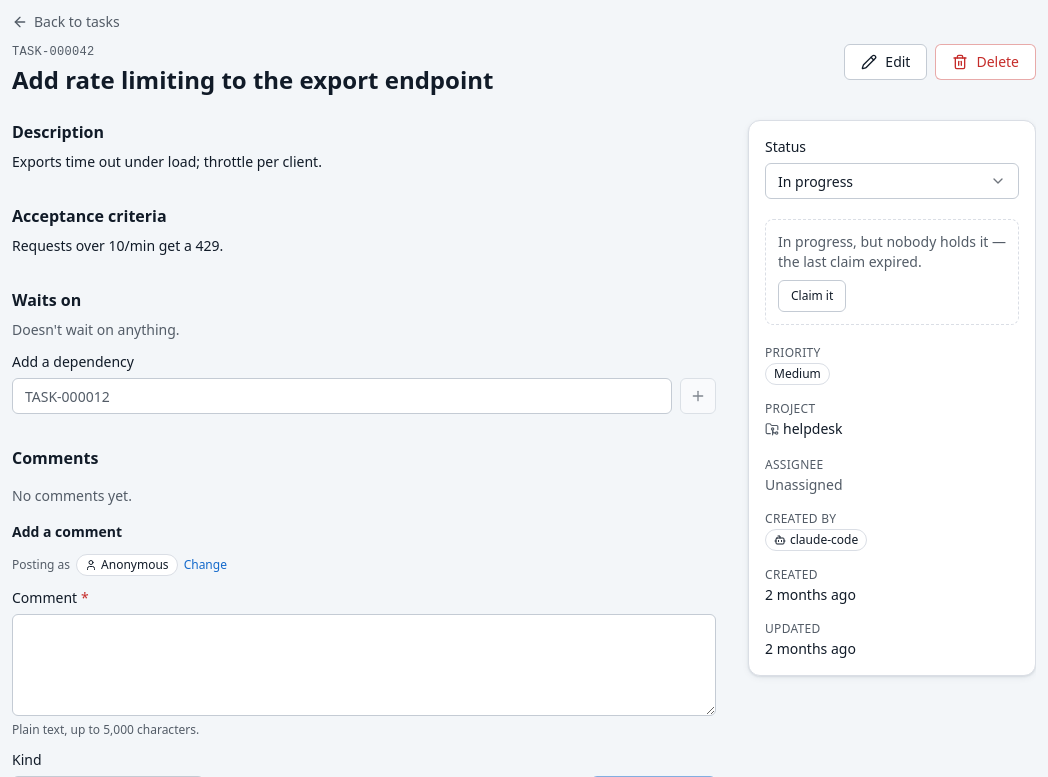
TaskDetailPage — status change › names the claim holder inline when a move is refused, and rolls the value back
This screenshot has width=1048, height=777.
Click the dropdown named "status". click: (892, 181)
box: left=765, top=163, right=1019, bottom=199
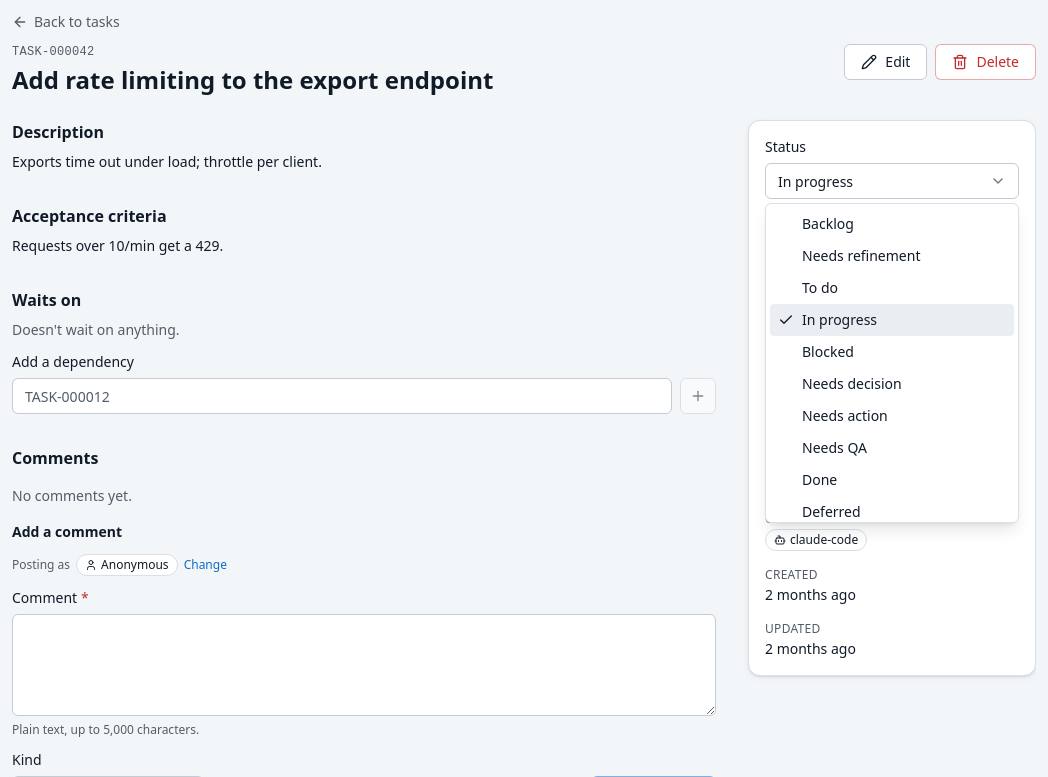
Click the option "Done". click: (820, 480)
box: left=802, top=470, right=837, bottom=489
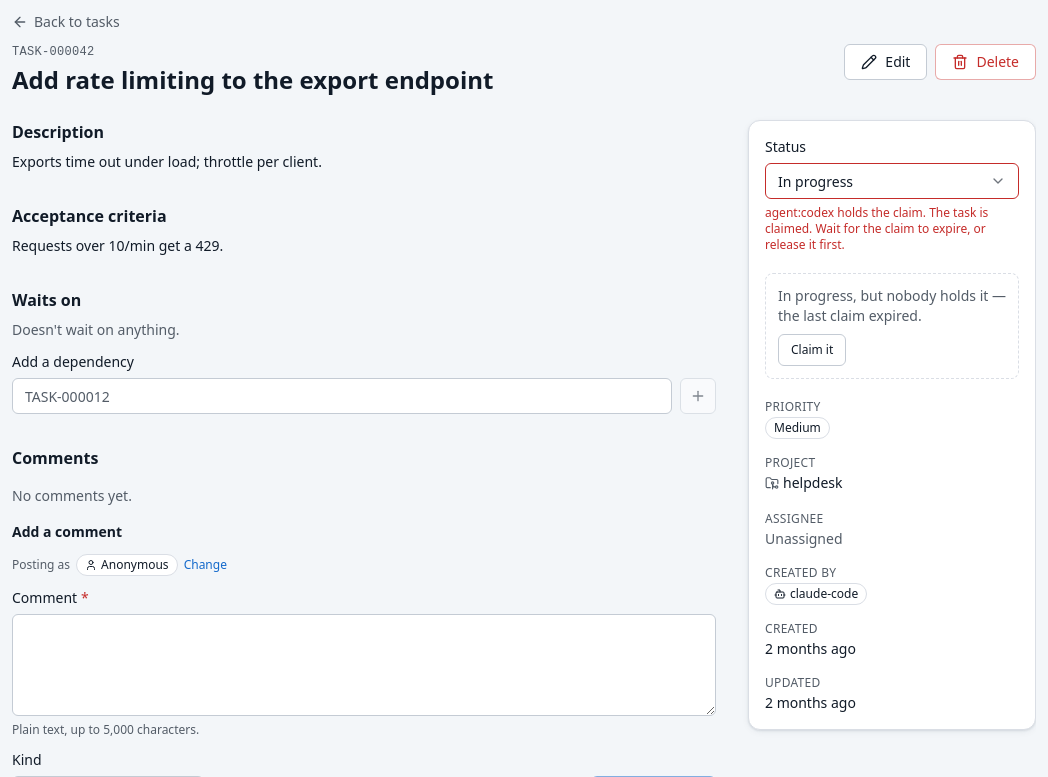
Expected: the dropdown named "status" reads "In progress", left=765, top=163, right=1019, bottom=199
Expected: the text "agent:codex holds the claim." is shown, left=765, top=204, right=988, bottom=253
